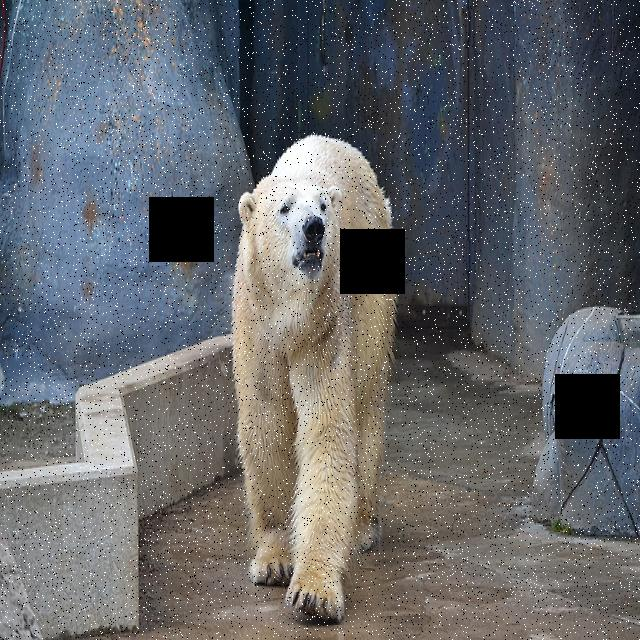Bear: (232, 131, 388, 624)
